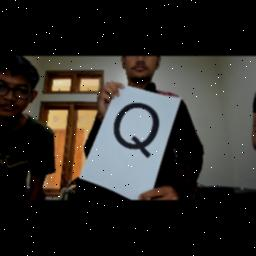q: (110, 98, 164, 166)
